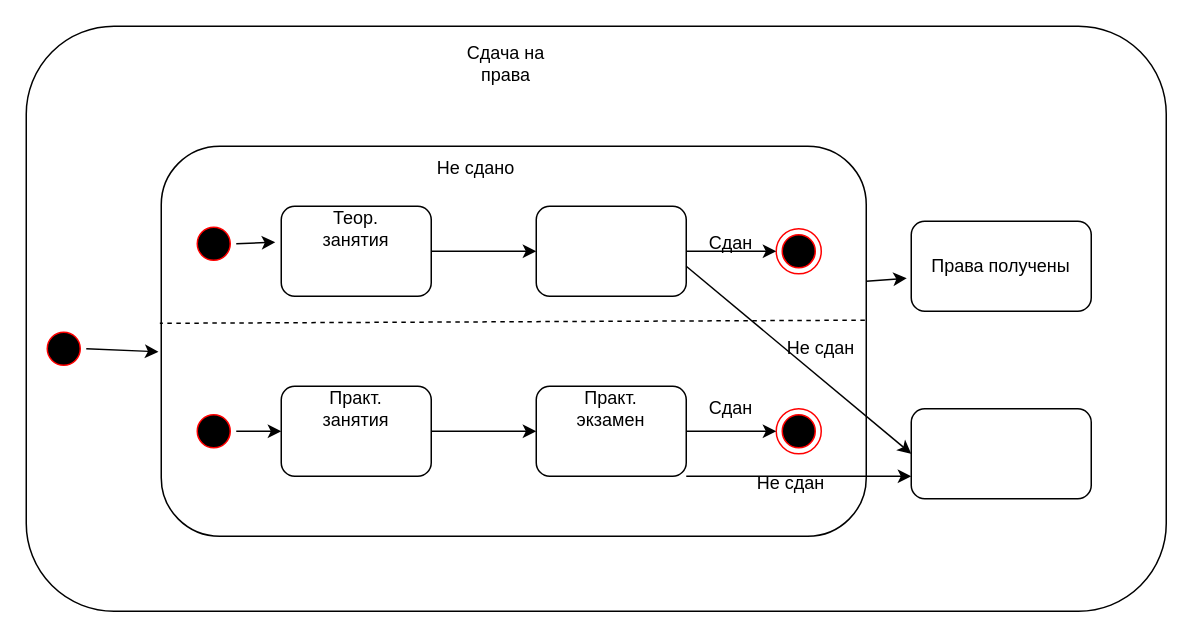
The diagram is 1193 pixels wide and 638 high, and some of its shapes have lost their labels. Each missing label, with the box of its shape:
Права не получены: (910, 407, 1091, 499)
Теор. экзамен: (535, 205, 686, 296)
